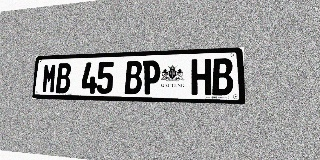4: (81, 62, 98, 94)
5: (97, 62, 114, 94)
B: (212, 58, 233, 96), (124, 61, 142, 94), (55, 63, 71, 93)
H: (191, 59, 211, 95)
M: (42, 63, 57, 93)
P: (142, 60, 161, 95)
